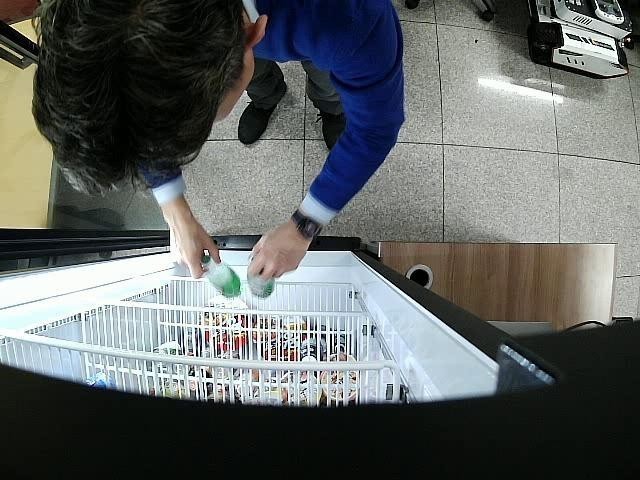18_trevi: (202, 256, 242, 298), (247, 258, 275, 298)
